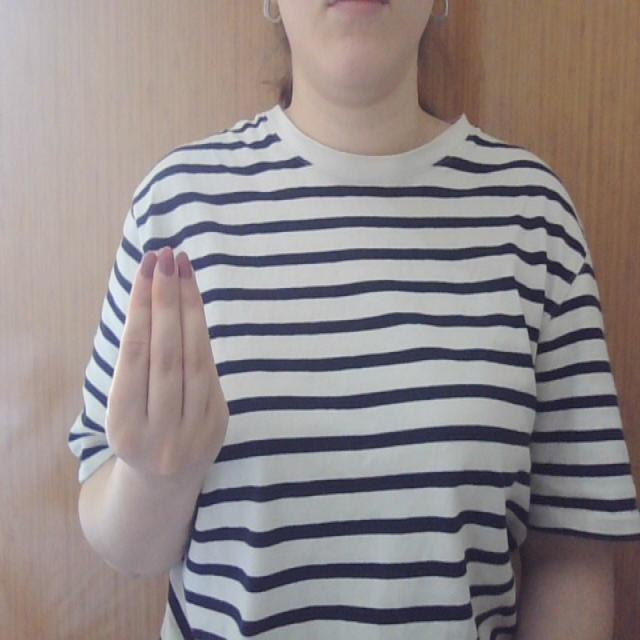iyi: (101, 232, 229, 485)
